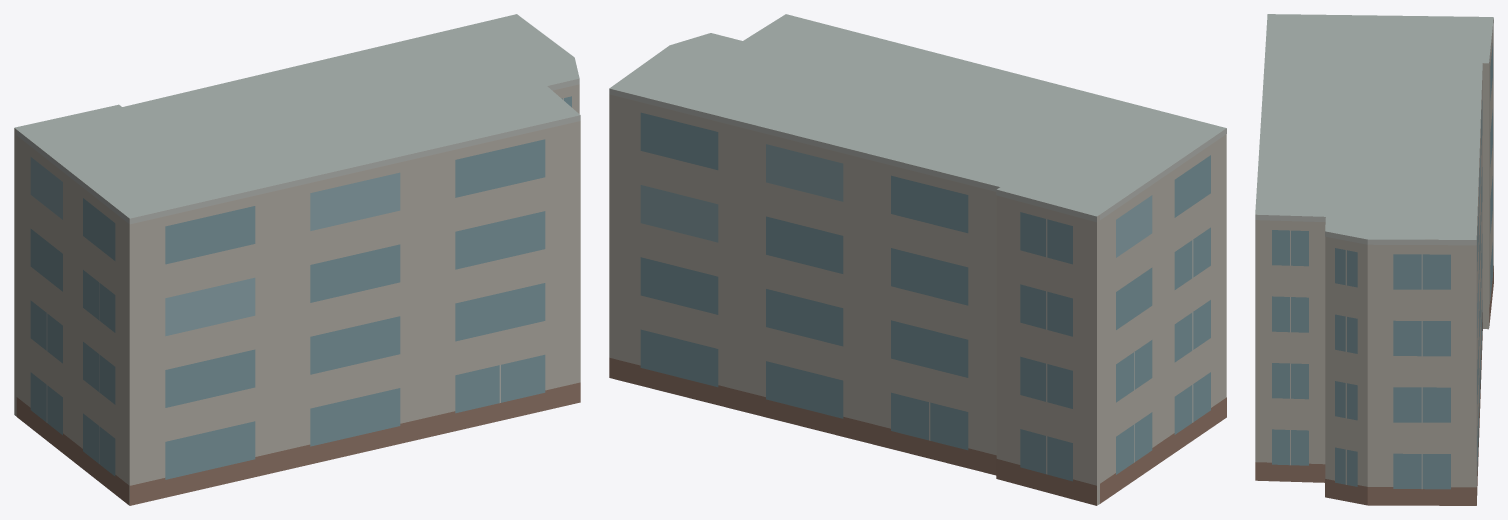
File: survey-upis-32819712.glb
3 views of the same model, side by side, from view 1: azimuth 30°, elevation 25°; view 2: azimuth 150°, elevation 25°; view 3: azimuth 270°, elevation 25° (orthographic). The views are drawn at different scales.
Parts seen in each view (by area): view 1: survey-upis-32819712.tmp; view 2: survey-upis-32819712.tmp; view 3: survey-upis-32819712.tmp.
Boxes of the visible parts, left/top/right/bottom form: survey-upis-32819712.tmp: left=14, top=14, right=580, bottom=505; survey-upis-32819712.tmp: left=609, top=14, right=1226, bottom=505; survey-upis-32819712.tmp: left=1255, top=14, right=1493, bottom=505.
Bounding box in the file's own units: 22.24 × 12.2 × 9.93.
